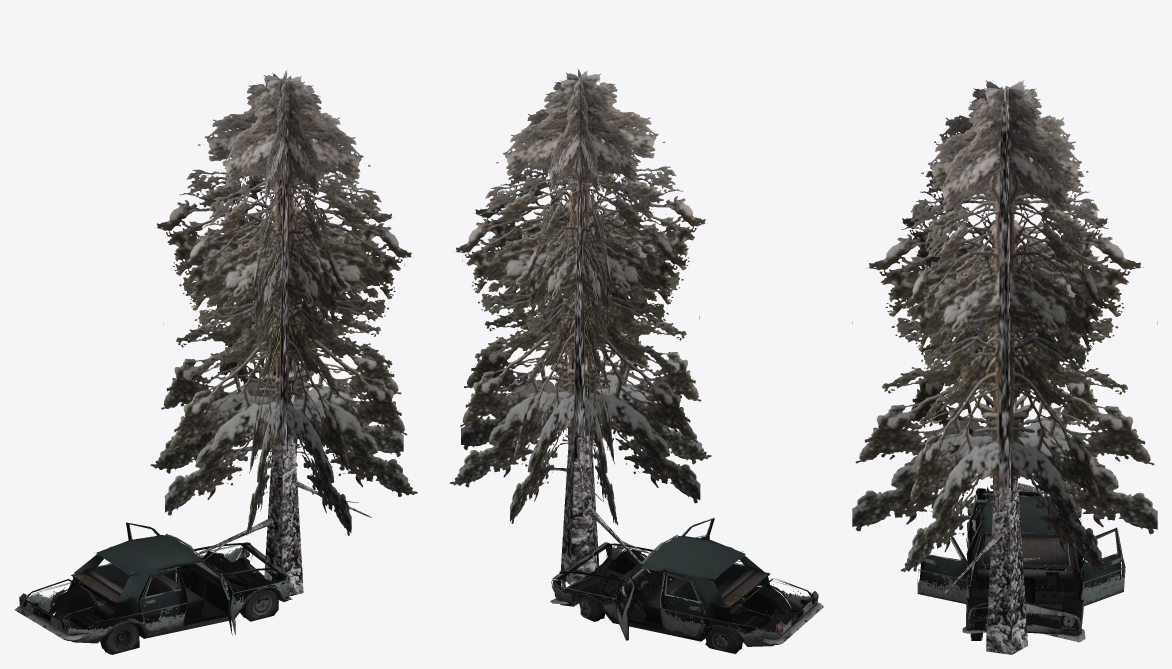
Rendered from RoadAccident.fbx.
3 views of the same model, side by side, from view 1: azimuth 30°, elevation 25°; view 2: azimuth 150°, elevation 25°; view 3: azimuth 270°, elevation 25° (orthographic). The views are drawn at different scales.
Visible parts, largest first — view 1: Plane.001, Plane.006, car004a_reference.smd, Cylinder; view 2: Plane.001, Plane.006, car004a_reference.smd, Cylinder; view 3: Plane.006, Plane.001, car004a_reference.smd, Cylinder.
Part boxes in pixels (x1,y1,x2,y2): Plane.001: (163,72,404,535); Plane.006: (150,69,417,535); car004a_reference.smd: (14,522,292,654); Cylinder: (264,93,303,596); Plane.001: (461,70,700,523); Plane.006: (450,68,711,524); car004a_reference.smd: (550,517,823,654); Cylinder: (560,117,599,584); Plane.006: (900,80,1109,572); Plane.001: (852,85,1157,591); car004a_reference.smd: (917,486,1125,642); Cylinder: (986,101,1027,654).
Bounding box in the file's own units: 593 × 834 × 399.
Materials: 3 (3 with a texture image).
